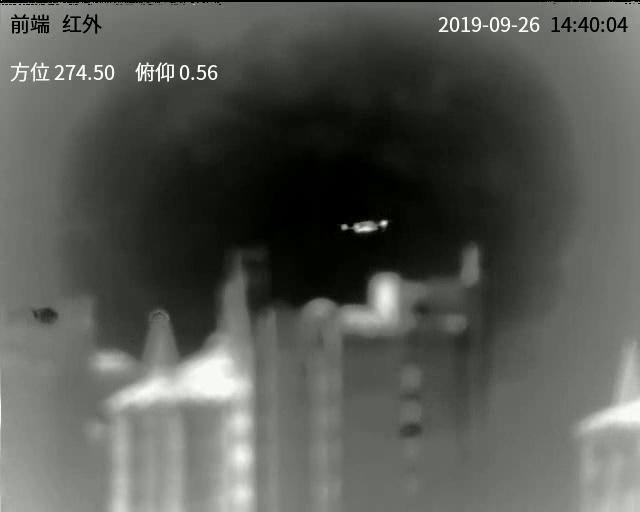DRONE: (340, 218, 389, 235)
